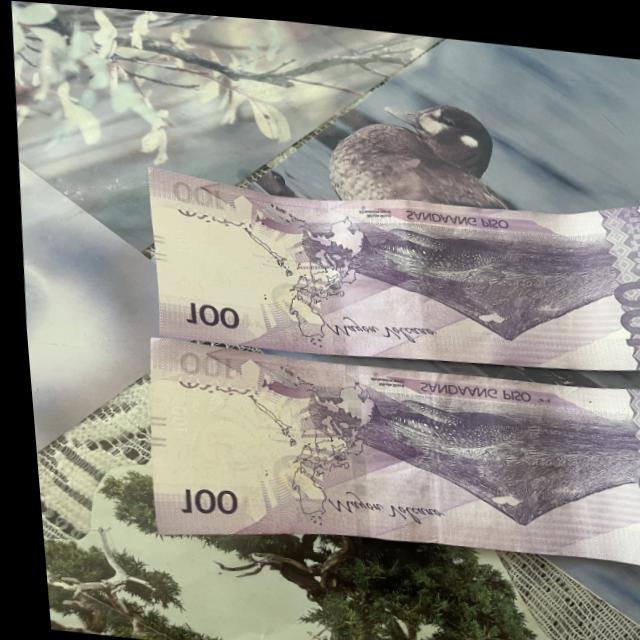100_whale: (312, 369, 533, 462), (285, 205, 497, 278)
100_whale_watermark: (247, 356, 330, 407), (255, 195, 317, 239)
value_watermark: (155, 390, 193, 437)
watermark: (163, 371, 311, 508)
